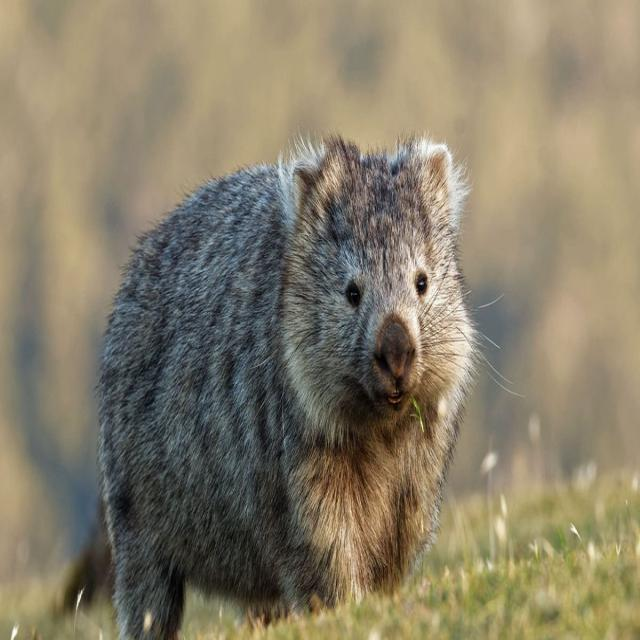Wombat: (94, 128, 493, 627)
